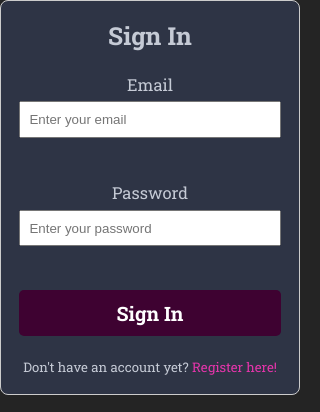
Scenario: SignIn Component › displays validation errors when need 1 special character
Type "1Qwertys" into the password field labelled "Password".
click(150, 228); type("1Qwertys")  # box [19,210,281,246]
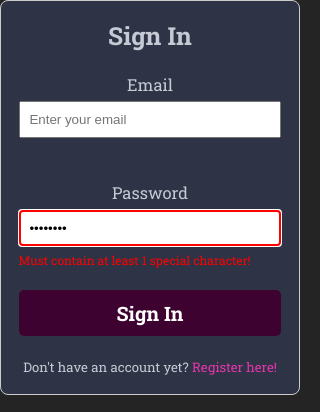
expect the text "Must contain at least 1 special character!" is shown: met, box [19,252,250,268]
